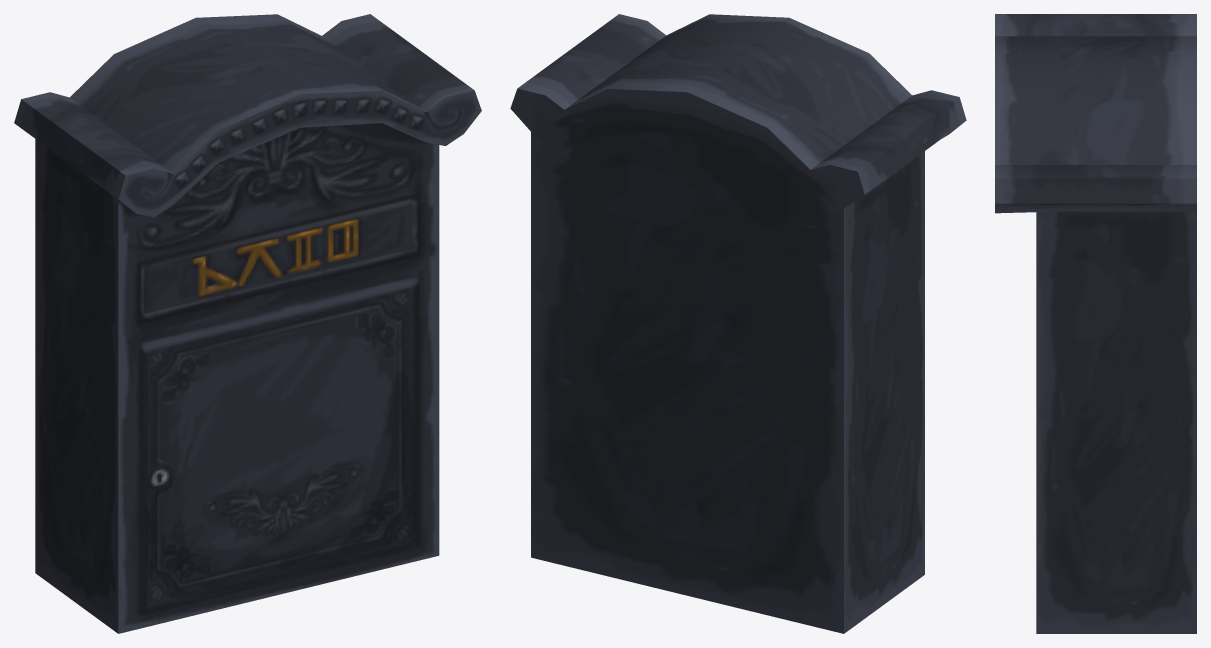
The model's file is SM_PROP_mailbox_city_02.fbx.
3 views of the same model, side by side, from view 1: azimuth 30°, elevation 25°; view 2: azimuth 150°, elevation 25°; view 3: azimuth 270°, elevation 25° (orthographic). The views are drawn at different scales.
Parts seen in each view (by area): view 1: SM_PROP_mailbox_city_02; view 2: SM_PROP_mailbox_city_02; view 3: SM_PROP_mailbox_city_02.
Part boxes in pixels (x1,y1,x2,y2): SM_PROP_mailbox_city_02: (14,14,481,633); SM_PROP_mailbox_city_02: (510,14,966,633); SM_PROP_mailbox_city_02: (995,14,1196,633).
Bounding box in the file's own units: 42.98 × 58.35 × 21.39.
